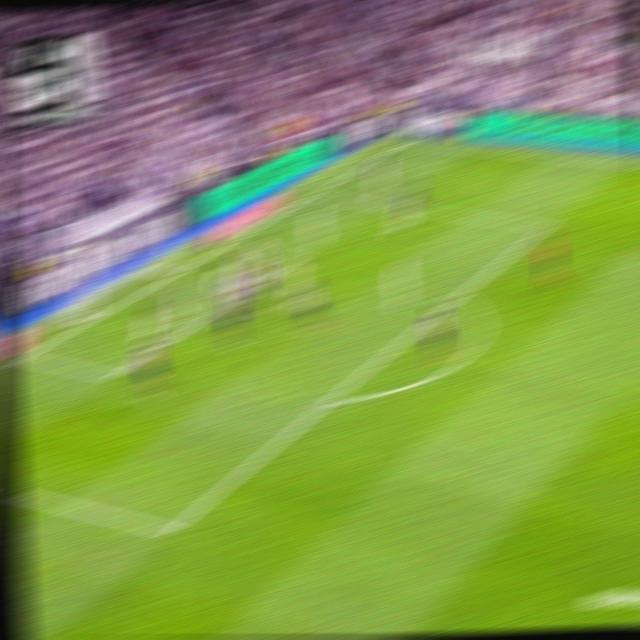bigarea_bottom_inner: (157, 514, 184, 546)
bigarea_top_inner: (535, 217, 554, 233)
bigarea_top_outter: (304, 187, 324, 199)
bottom_arc_area_intersection: (318, 388, 341, 410)
corner: (394, 135, 415, 146)
smallarea_bottom_inner: (103, 364, 123, 385)
smallarea_bottom_outter: (14, 348, 36, 363)
smallarea_top_inner: (288, 251, 305, 263)
smallarea_top_outter: (217, 239, 234, 249)
top_arc_area_intersection: (447, 287, 468, 304)
